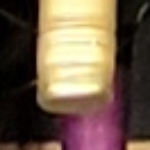bottle: (20, 31, 134, 139)
